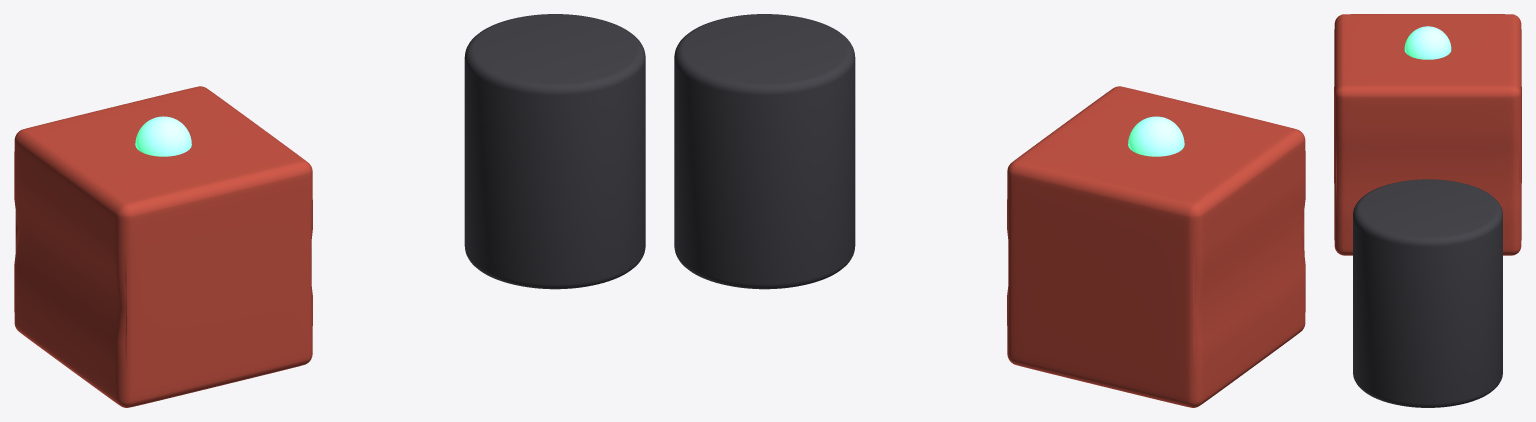
The model's file is props_high_cm_yup_aligned.glb.
3 views of the same model, side by side, from view 1: azimuth 30°, elevation 25°; view 2: azimuth 150°, elevation 25°; view 3: azimuth 270°, elevation 25° (orthographic). The views are drawn at different scales.
Parts seen in each view (by area): view 1: crate_high, pipe_high, crate_high1; view 2: crate_high, pipe_high, crate_high1; view 3: crate_high, pipe_high, crate_high1.
Boxes of the visible parts, bbox=[...] form: crate_high: bbox=[14, 86, 312, 407]; pipe_high: bbox=[464, 14, 645, 289]; crate_high1: bbox=[135, 116, 191, 156]; crate_high: bbox=[1007, 86, 1305, 407]; pipe_high: bbox=[674, 14, 855, 289]; crate_high1: bbox=[1128, 116, 1184, 156]; crate_high: bbox=[1334, 14, 1521, 255]; pipe_high: bbox=[1353, 179, 1502, 407]; crate_high1: bbox=[1404, 26, 1451, 59].
Bounding box in the file's own units: 5.8 × 2.25 × 2.
